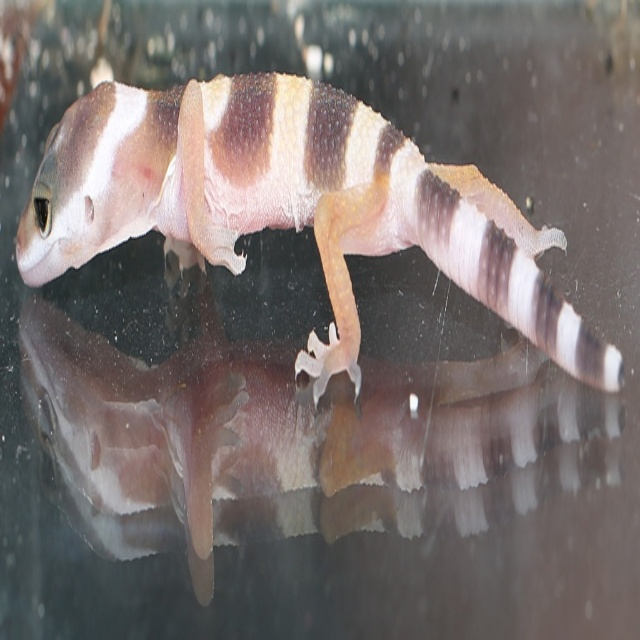Lizard: (15, 81, 624, 409)
